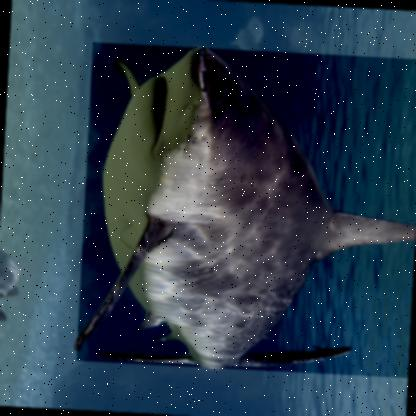bulldog-shark: (74, 40, 415, 379)
